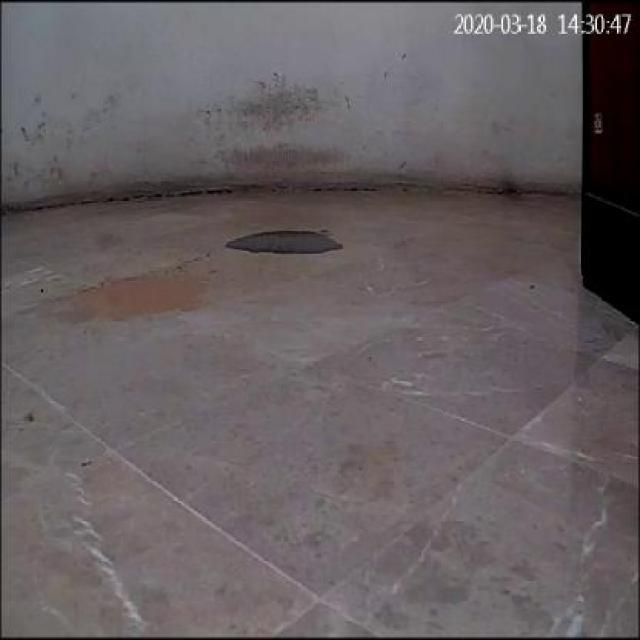spill: (229, 228, 340, 252)
